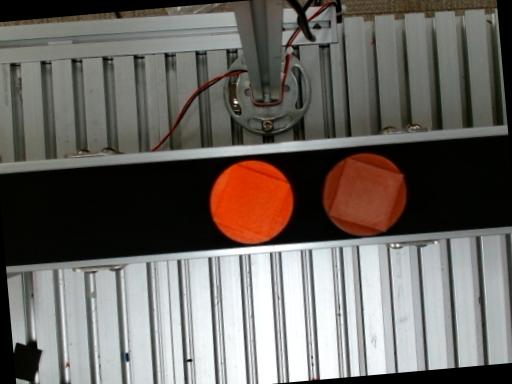Square: (212, 165, 288, 240), (329, 157, 403, 232)
